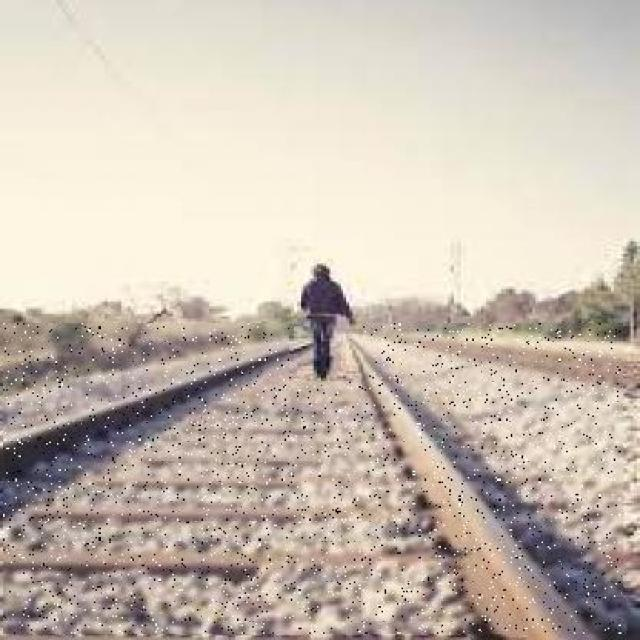danger: (291, 254, 364, 380)
rail: (4, 324, 622, 634)
